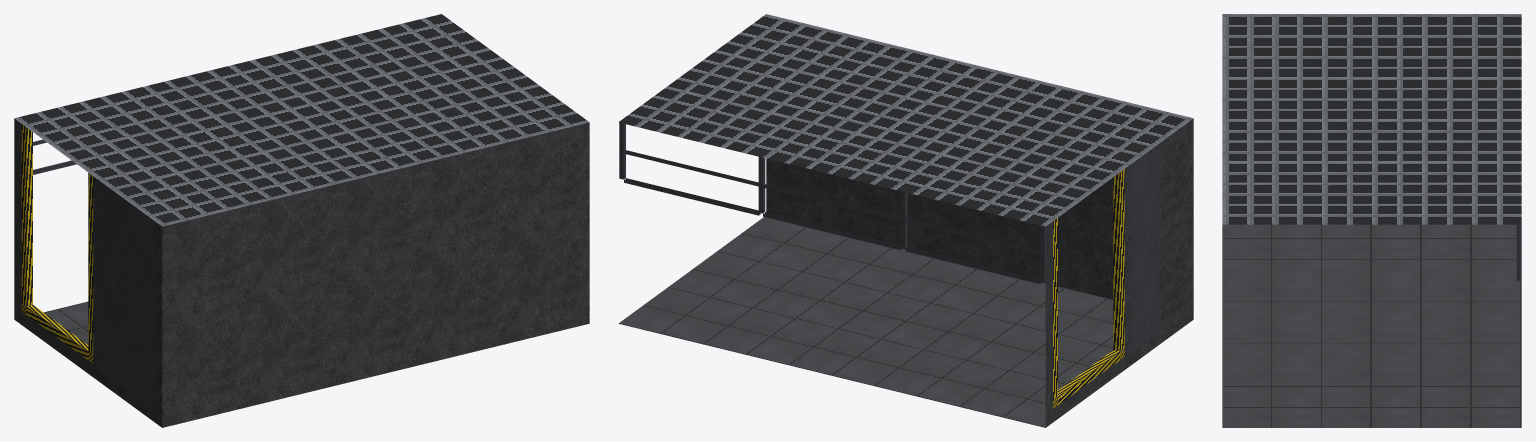
File: walkway.obj
The picture shows the model from 3 angles, left to right: view 1: azimuth 30°, elevation 25°; view 2: azimuth 150°, elevation 25°; view 3: azimuth 270°, elevation 25°; orthographic projection.
Bounding box in the file's own units: 400 × 180 × 240.
6 materials, 6 textured.
